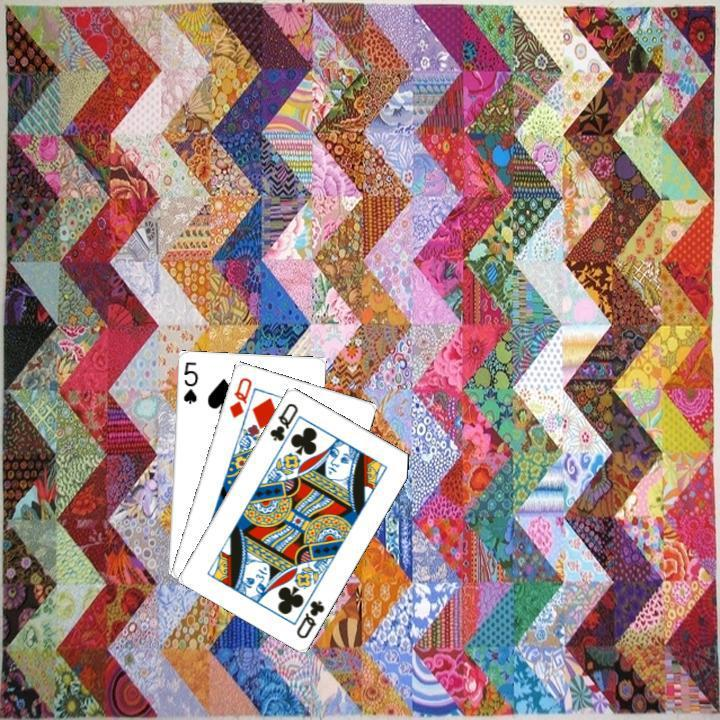5: (178, 357, 200, 405)
Q: (291, 595, 327, 640), (265, 398, 300, 443), (224, 372, 254, 420)
